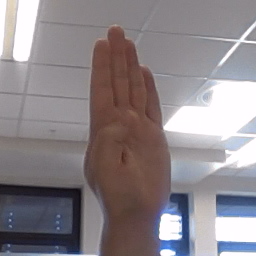B: (81, 23, 175, 211)
